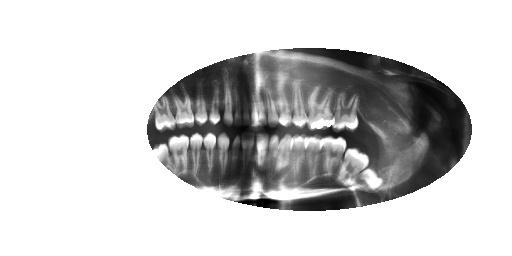i10decay: (225, 132, 244, 178)
i11healthy: (214, 129, 231, 177)
i12healthy: (203, 126, 218, 179)
i13healthy: (188, 130, 203, 178)
i14healthy: (166, 133, 195, 174)
i15healthy: (151, 139, 179, 177)
i1healthy: (345, 167, 387, 194)
i2healthy: (334, 141, 372, 188)
i3healthy: (318, 135, 348, 178)
i4healthy: (303, 135, 325, 180)
i5healthy: (289, 129, 309, 181)
i6chipped: (278, 129, 295, 181)
i7healthy: (265, 132, 283, 180)
i8healthy: (249, 130, 271, 173)
i9decay: (239, 130, 258, 176)
u10decay: (231, 79, 244, 128)
u11decay: (221, 75, 234, 129)
u12healthy: (206, 73, 225, 128)
u13healthy: (192, 77, 207, 129)
u14healthy: (167, 81, 195, 129)
u15healthy: (151, 93, 179, 132)
u1loss: (358, 97, 379, 139)
u2healthy: (330, 84, 361, 134)
u3healthy: (304, 78, 340, 133)
u4healthy: (289, 76, 312, 129)
u5chipped: (274, 83, 293, 130)
u6decay: (263, 82, 282, 130)
u7decay: (256, 83, 268, 129)
u8healthy: (249, 81, 262, 130)
u9decay: (240, 79, 253, 129)
